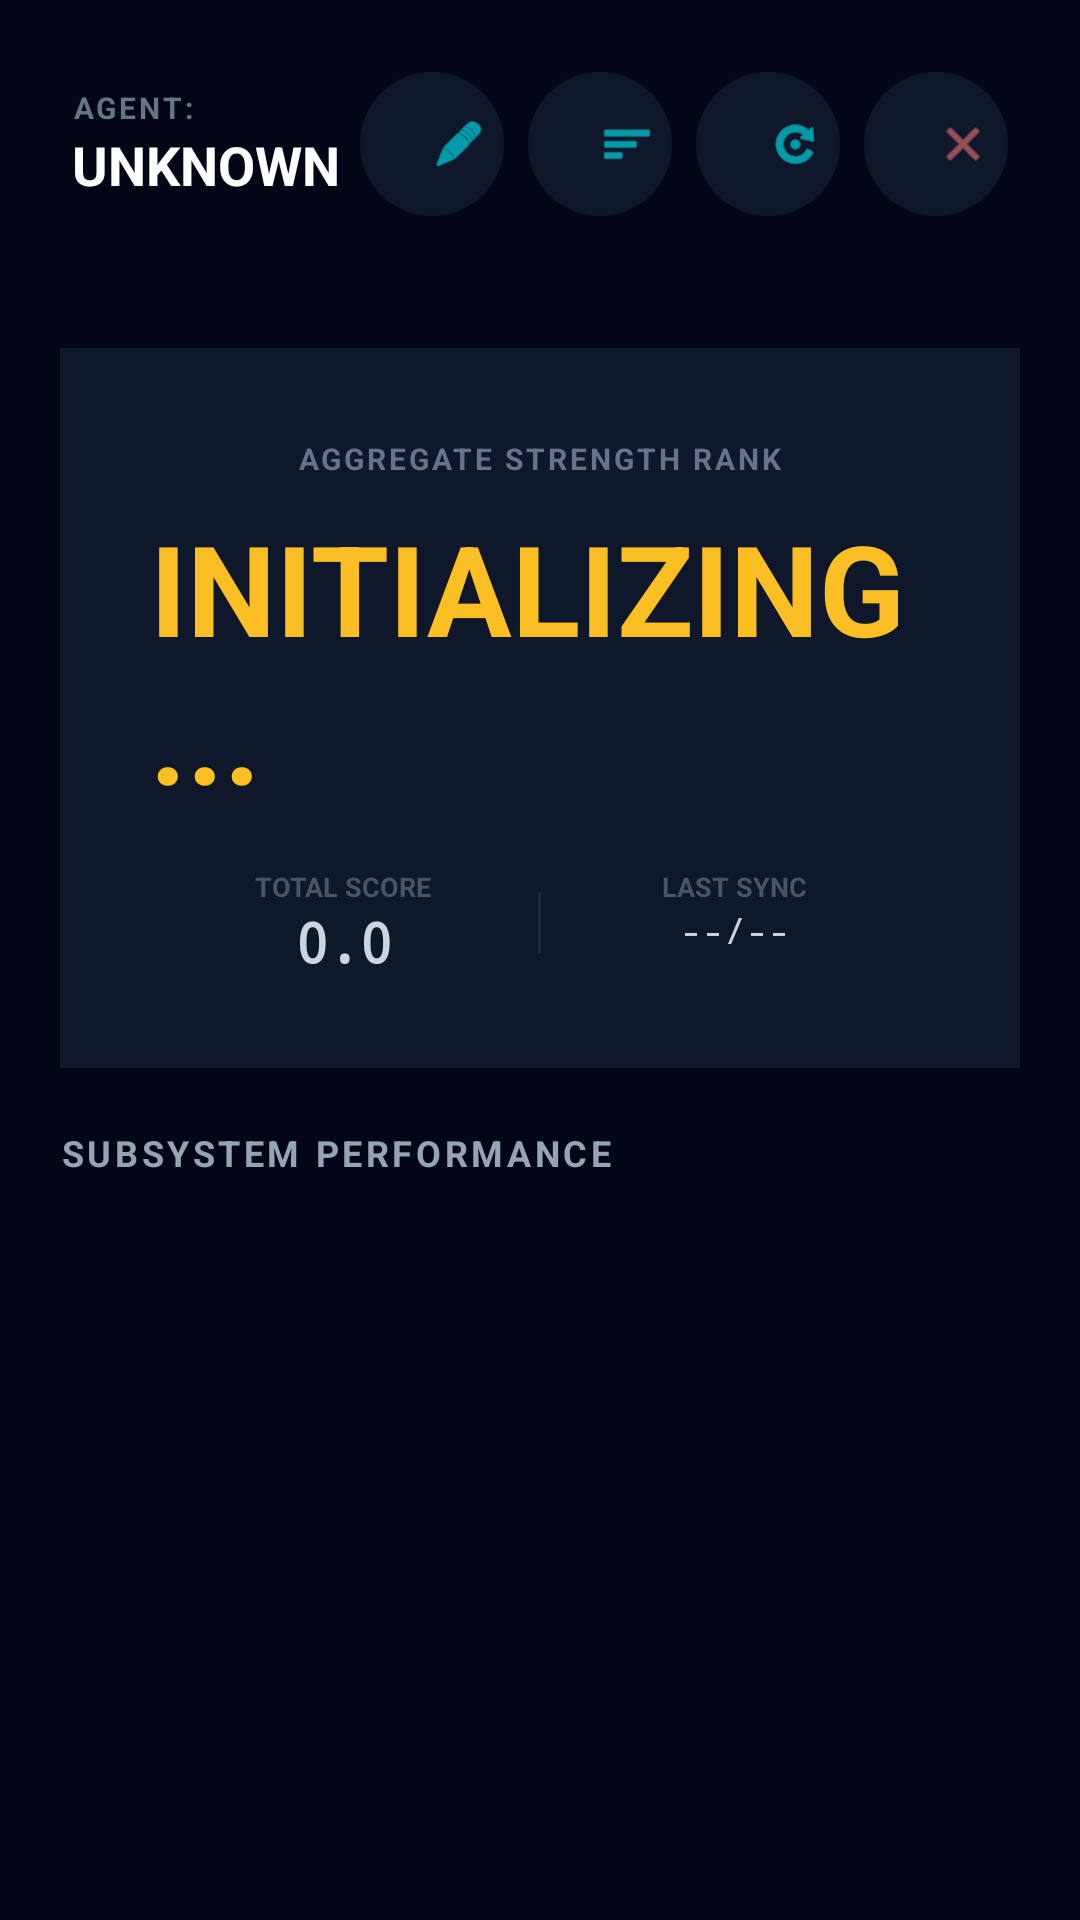

Icon bounding boxes for this 1080px×1920px phone screenshot, format (x1, y1, x2, y2):
close clear cancel: (946, 127, 980, 161)
edit: (360, 72, 504, 216)
rotate: (775, 124, 815, 165)
sort by size: (603, 129, 651, 160)
